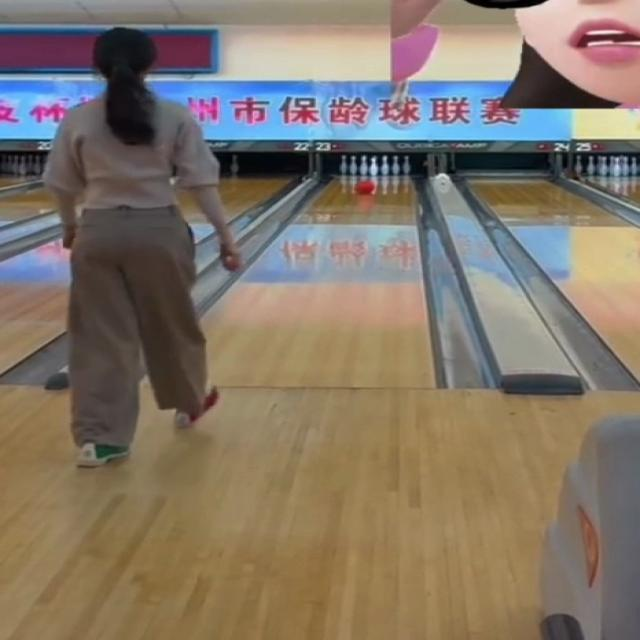alley: (203, 178, 431, 387)
balls: (356, 180, 375, 195)
bottle: (341, 155, 411, 178)
